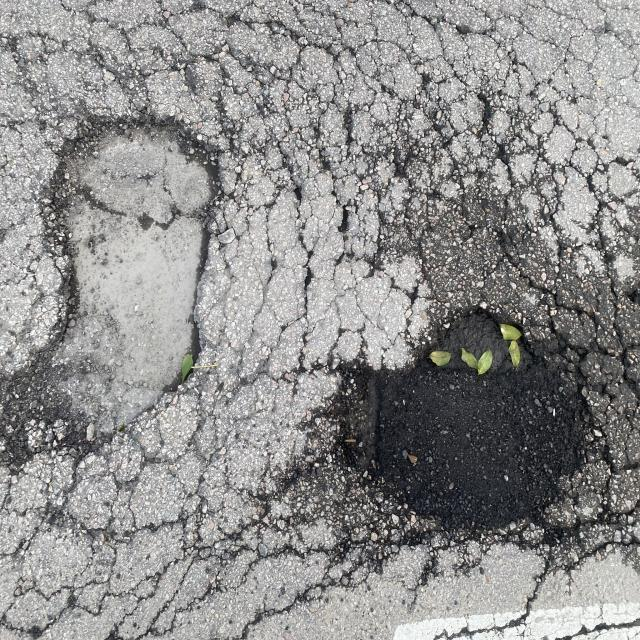pothole: (34, 74, 230, 552), (302, 304, 632, 516)
